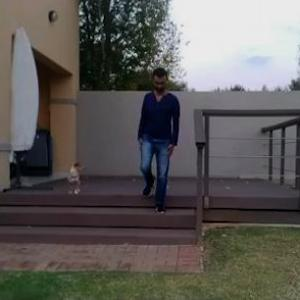follow: (137, 63, 178, 224)
